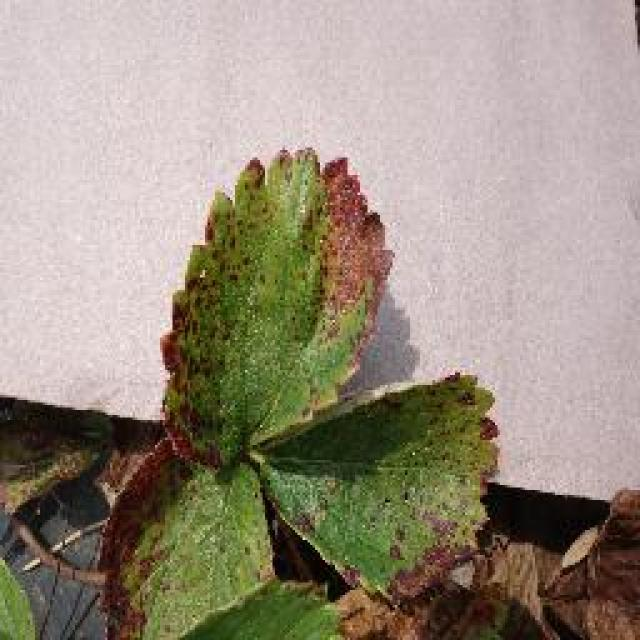Strawberry leaf scorch: (204, 195, 418, 575)
